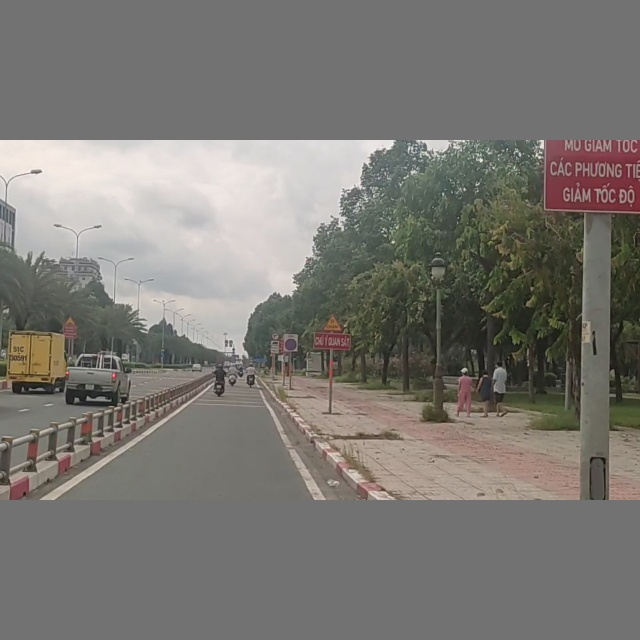P.123b: (271, 332, 280, 341)
P.130: (283, 333, 300, 351)
W.245a: (321, 313, 344, 333)
